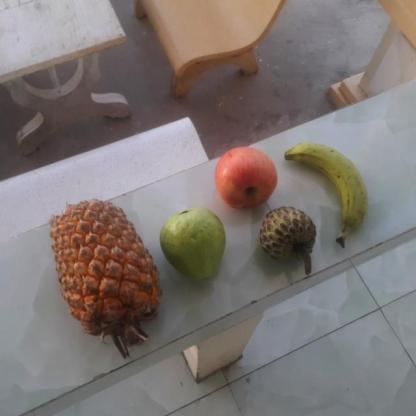annona: (256, 205, 315, 267)
apple: (212, 146, 279, 211)
banana: (280, 141, 364, 238)
guava: (158, 209, 226, 280)
pineapple: (46, 198, 159, 334)
